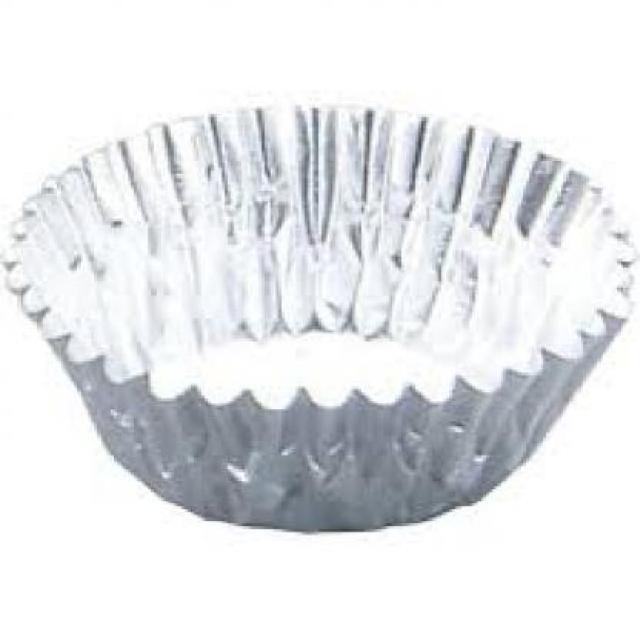METAL: (2, 99, 632, 532)
